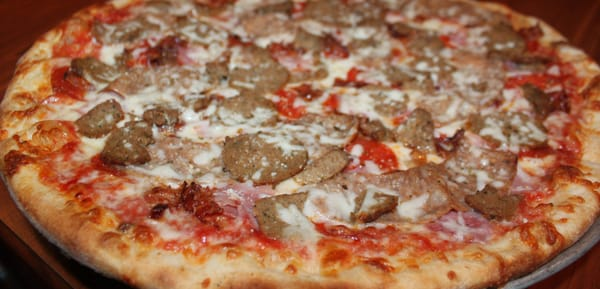sandwich: (0, 0, 600, 284)
